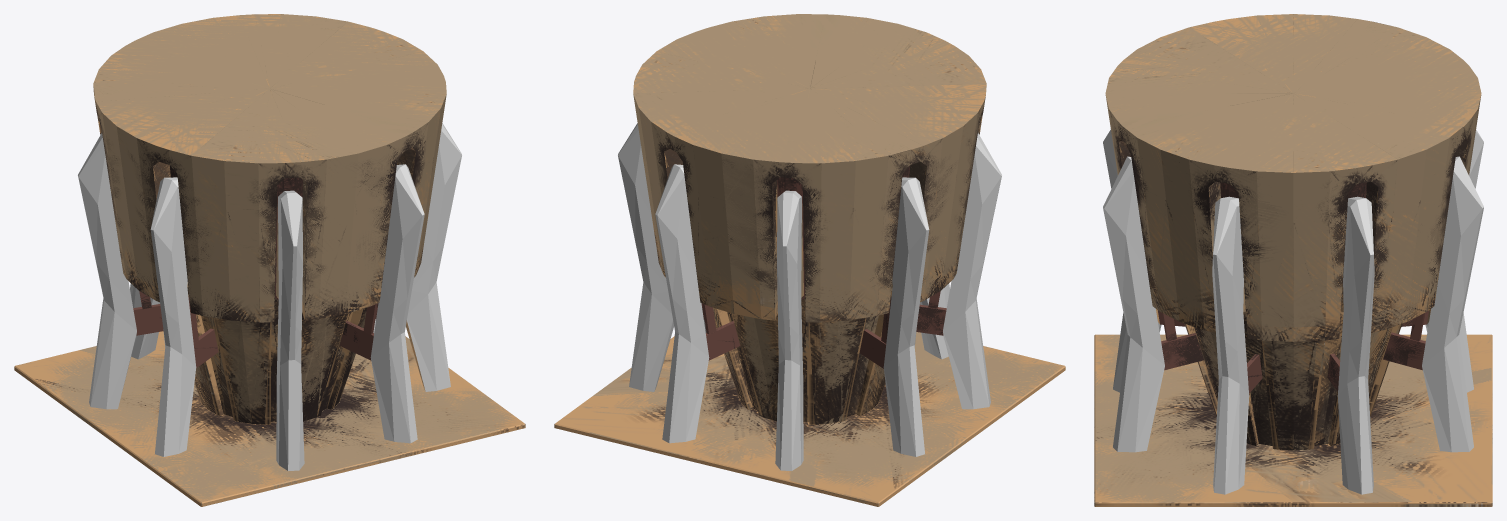
The picture shows the model from 3 angles, left to right: view 1: azimuth 30°, elevation 25°; view 2: azimuth 150°, elevation 25°; view 3: azimuth 270°, elevation 25°; orthographic projection. The views are drawn at different scales.
Parts seen in each view (by area): view 1: 4x4A; view 2: 4x4A; view 3: 4x4A.
Boxes of the visible parts, x1,y1,x2,y2 form: 4x4A: (14,14,525,506); 4x4A: (554,14,1065,506); 4x4A: (1094,14,1492,506).
Bounding box in the file's own units: 4 × 3.65 × 4.
Materials: 3 (2 with a texture image).
